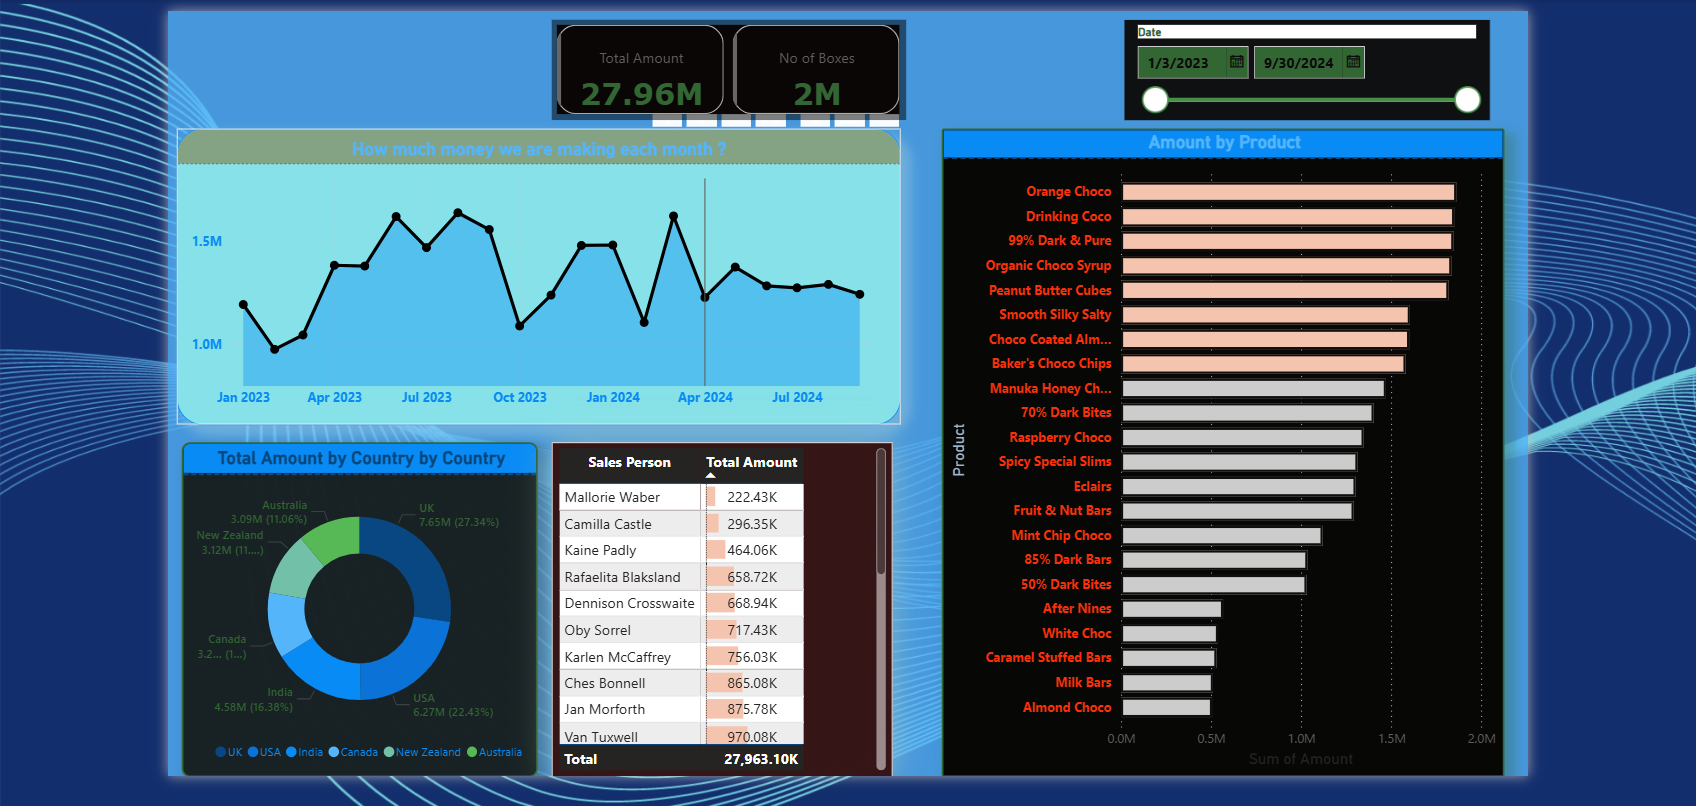

The dashboard page shown, as its layout file describes it:
{"tool":"powerbi","page":{"name":"Awesome Choclates Dashboard ","canvas":[1280,720],"ordinal":0},"visuals":[{"type":"lineChart","title":"How much money we are making each month ?","fields":{"Category":["data.Date.Variation.Date Hierarchy.Year","data.Date.Variation.Date Hierarchy.Quarter","data.Date.Variation.Date Hierarchy.Month","data.Date.Variation.Date Hierarchy.Day"],"Y":["data.Amount"]},"box":[7.8,110.2,681.3,279.4],"z":0},{"type":"donutChart","fields":{"Category":["data.Country"],"Y":["data.Amount"]},"box":[13.3,405.4,335.4,314.9],"z":1000},{"type":"tableEx","fields":{"Values":["data.Sales Person","data.Amount"]},"box":[360.7,405.4,320.9,314.9],"z":2000},{"type":"clusteredBarChart","title":"Amount by Product","fields":{"Category":["data.Product"],"Y":["data.Amount"]},"box":[728,110.2,529.9,610],"z":3000},{"type":"cardVisual","fields":{"Data":["data.Amount","data.Boxes"]},"box":[360.7,7.8,334,94.6],"z":4000},{"type":"slicer","fields":{"Values":["data.Date"]},"box":[899.4,7.8,344,94.6],"z":5000}]}

Visuals, with their boxes in screenshot pixels (x1, y1, x2, y2):
"How much money we are making each month ?" lineChart: left=172, top=121, right=895, bottom=418
donutChart - data.Country x data.Amount: left=178, top=435, right=534, bottom=769
tableEx - data.Sales Person x data.Amount: left=546, top=435, right=887, bottom=769
"Amount by Product" clusteredBarChart: left=937, top=121, right=1499, bottom=769
cardVisual - data.Amount x data.Boxes: left=546, top=13, right=901, bottom=113
slicer - data.Date: left=1119, top=13, right=1484, bottom=113
